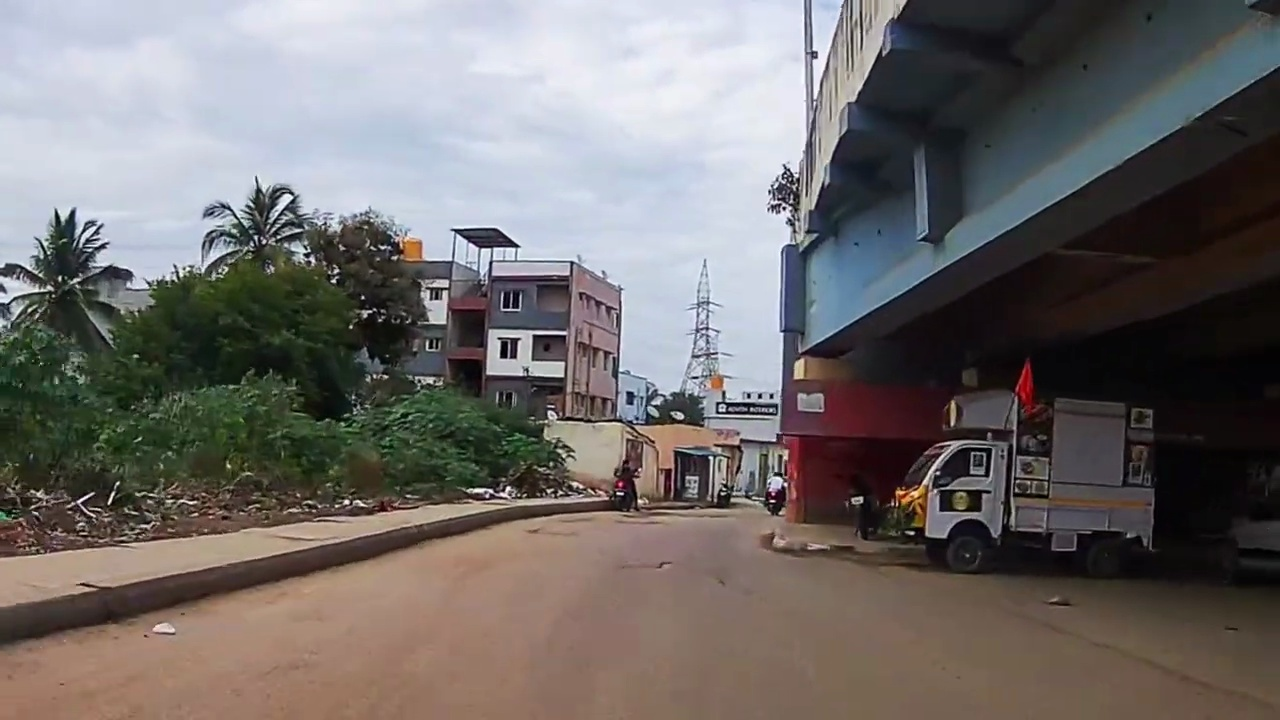garbage: (19, 492, 211, 533), (466, 485, 516, 498)
